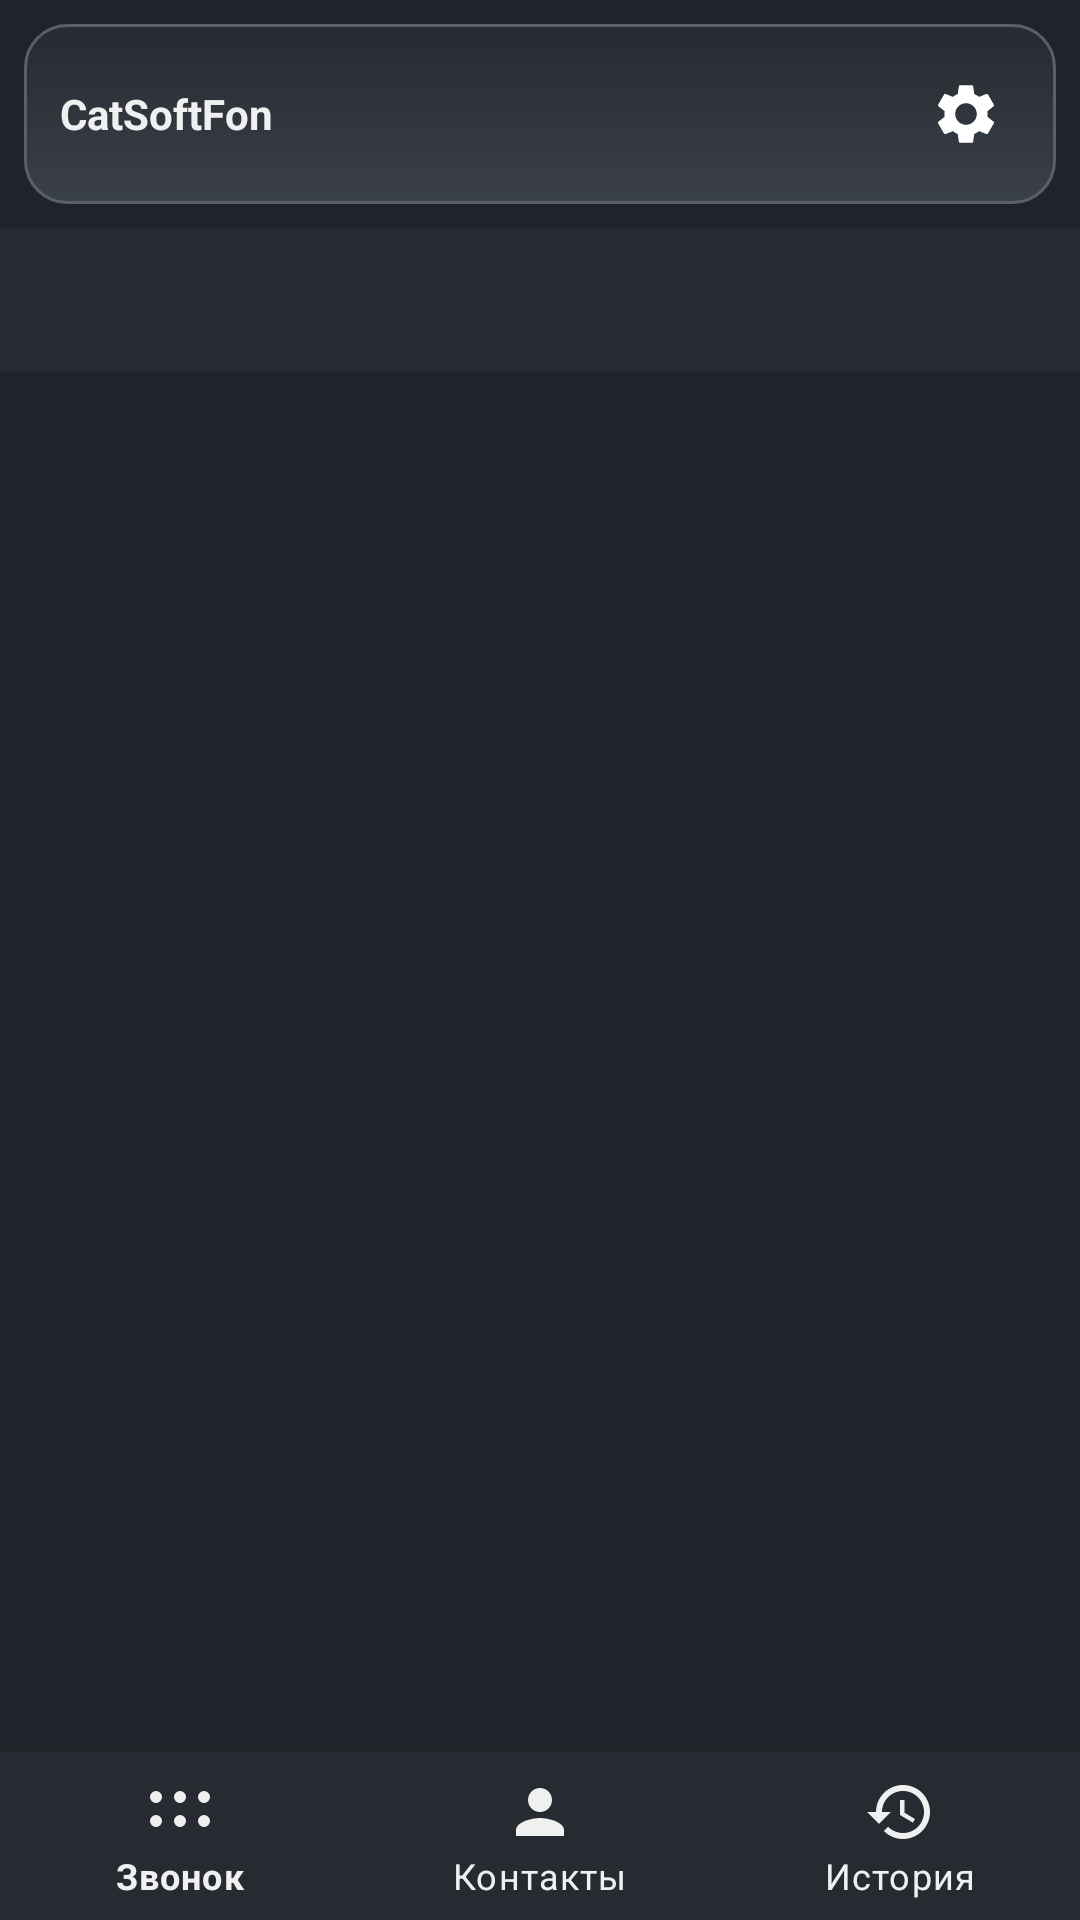

Screen size 1080x1920. Icon name, then its center in pixels as point (x, y):
Настройки учётных записей: point (966, 114)
